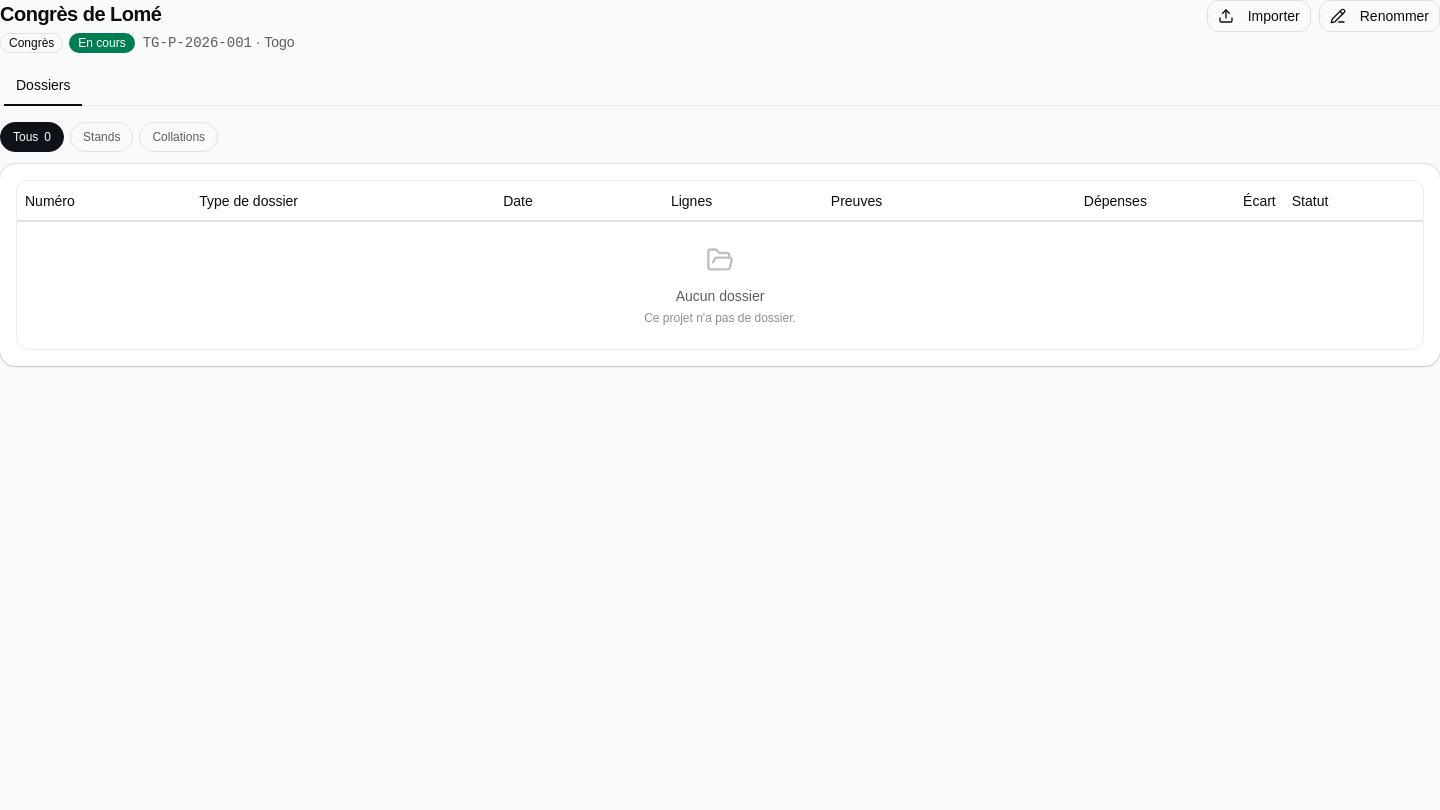
Test: Renommer le projet, côté pays › garde le dialogue ouvert sur un refus du serveur
Click the button "Renommer".
click(1379, 16)  # box top-left (1319, 0), bottom-right (1439, 32)
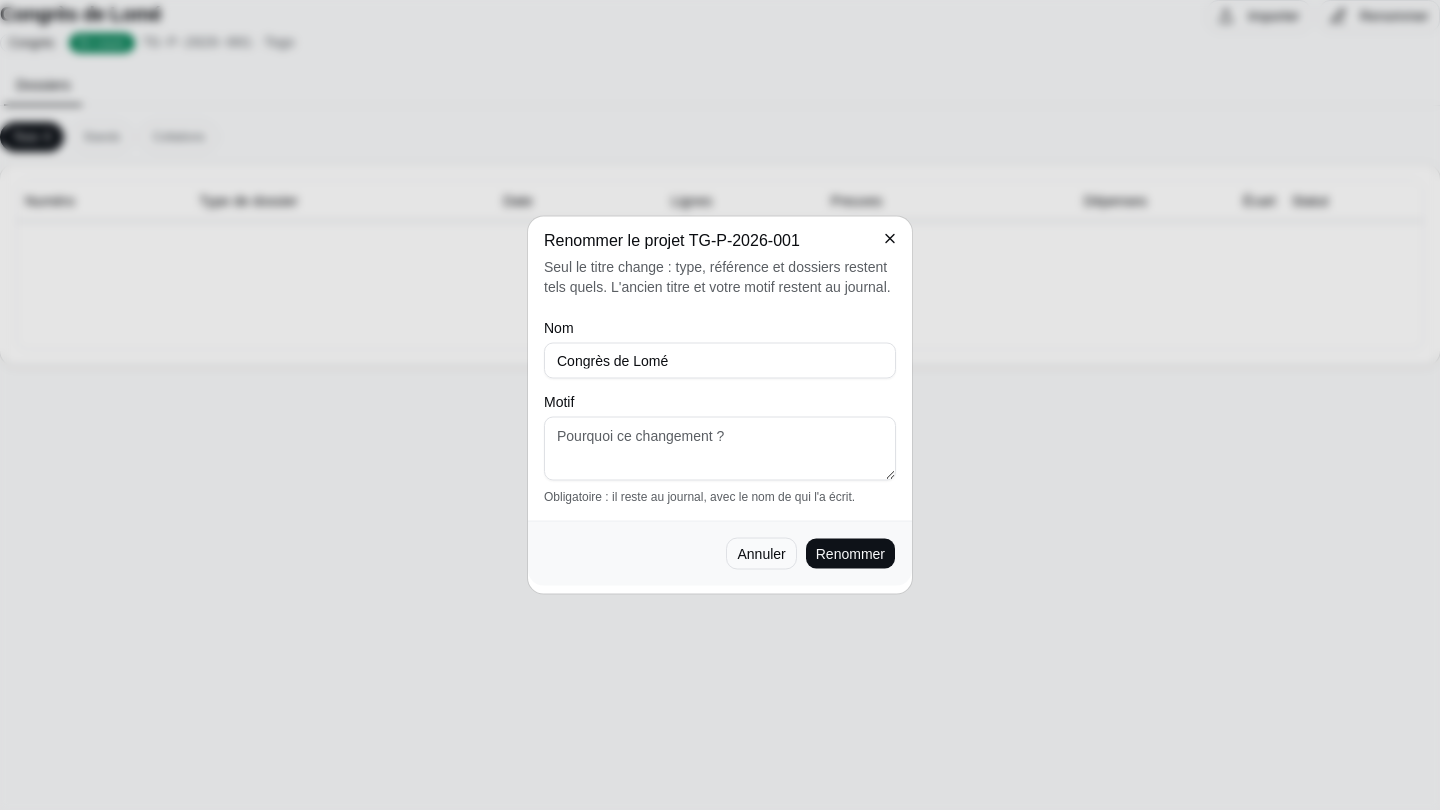
Type "Doublon" into the text box labelled "Motif".
click(720, 448); type("Doublon")  # box top-left (544, 416), bottom-right (896, 480)
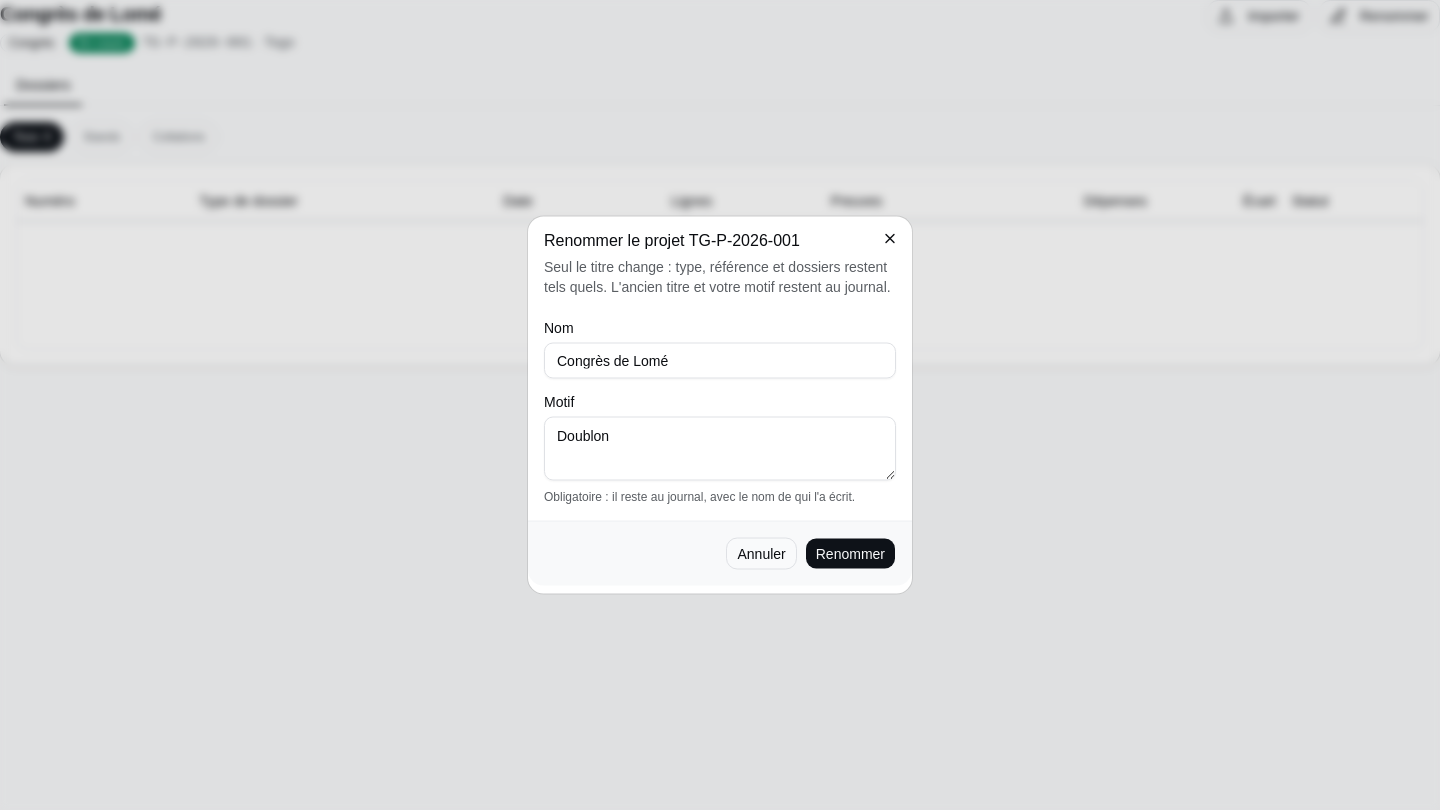
Click the button "Renommer".
click(850, 554)  # box top-left (805, 538), bottom-right (896, 570)
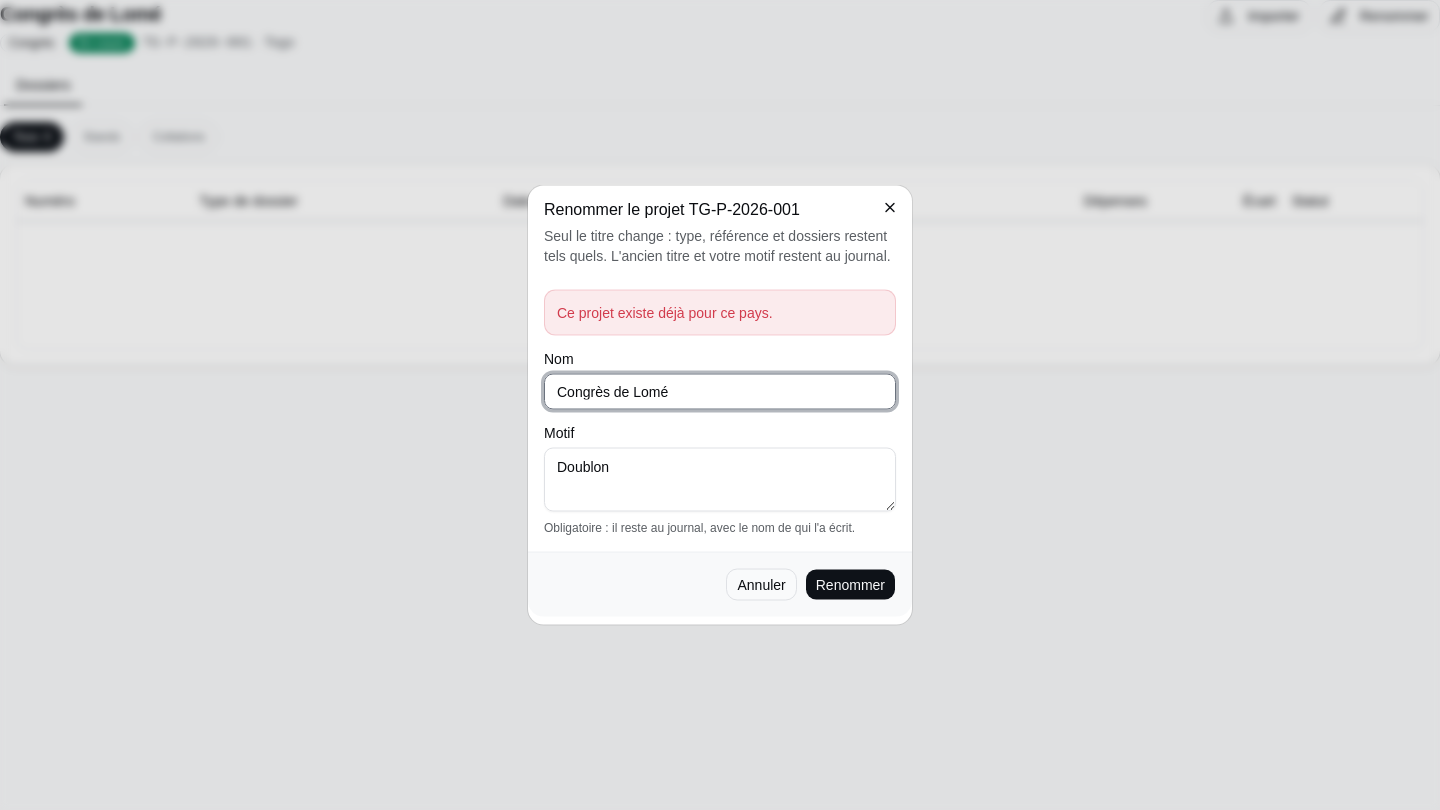
expect the dialog is shown: met, box top-left (528, 186), bottom-right (912, 624)
expect the message reads "Ce projet existe déjà pour ce pays.": met, box top-left (557, 304), bottom-right (773, 320)
